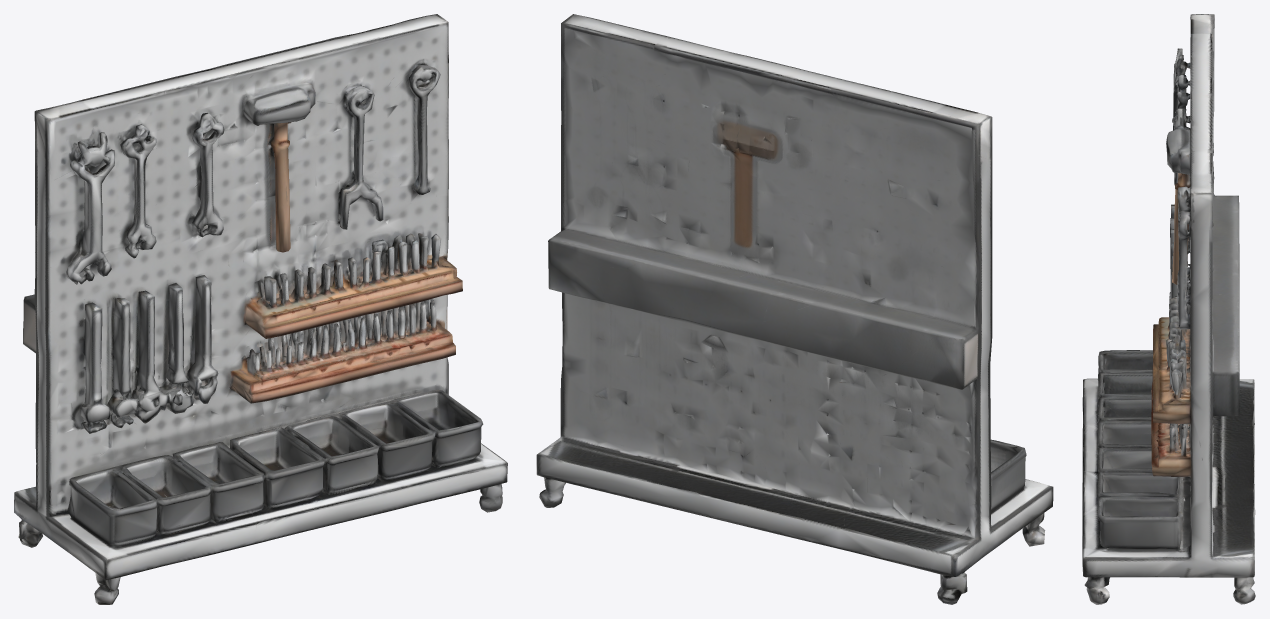
The model's file is ToolRack.fbx.
3 views of the same model, side by side, from view 1: azimuth 30°, elevation 25°; view 2: azimuth 150°, elevation 25°; view 3: azimuth 270°, elevation 25° (orthographic). The views are drawn at different scales.
Visible parts, largest first — view 1: Mesh_0; view 2: Mesh_0; view 3: Mesh_0.
Part boxes in pixels (box(x1,y1,x2,y2)): Mesh_0: box(14, 14, 507, 604); Mesh_0: box(536, 14, 1053, 604); Mesh_0: box(1082, 14, 1255, 604).
Size of the model in its own units: 189 by 200 by 76.12.
1 material, 1 textured.
